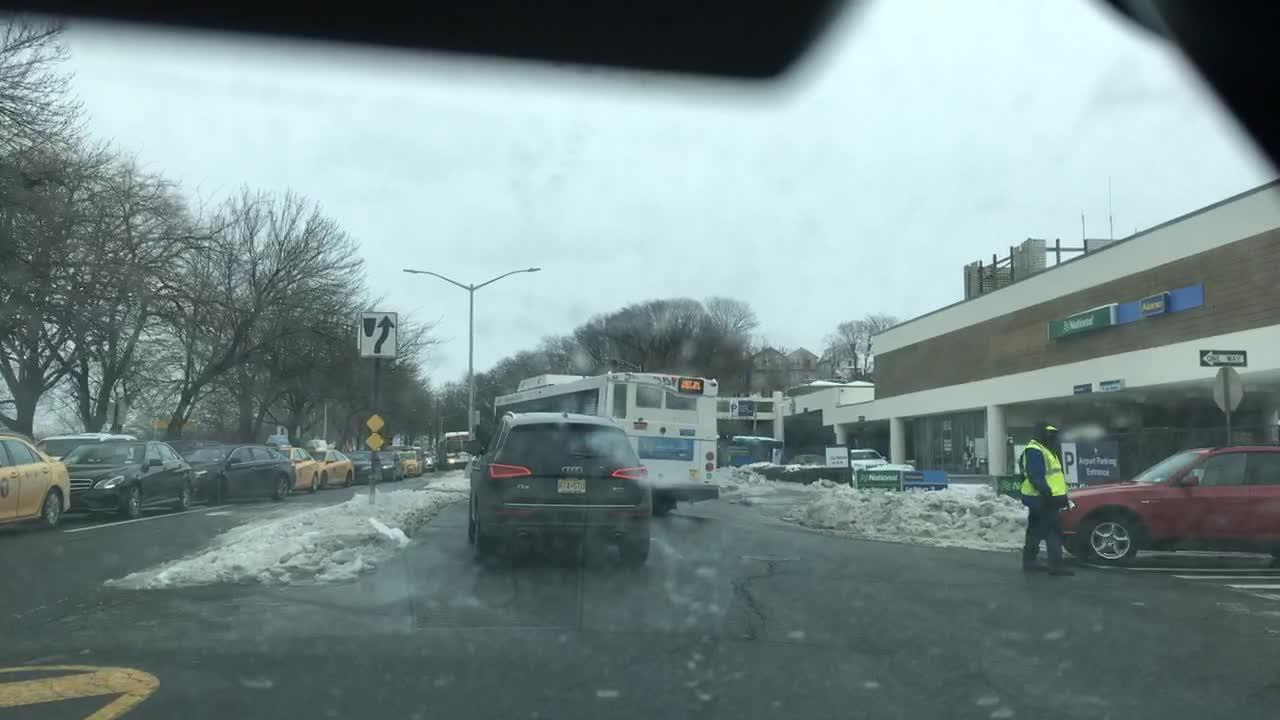Audi: (560, 464, 588, 478)
